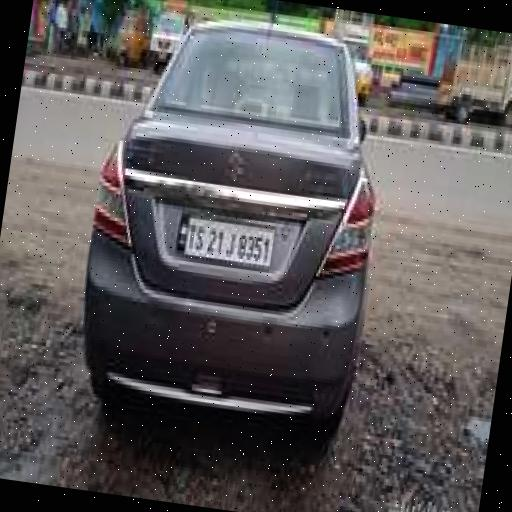license_plate`: (175, 210, 274, 263)
